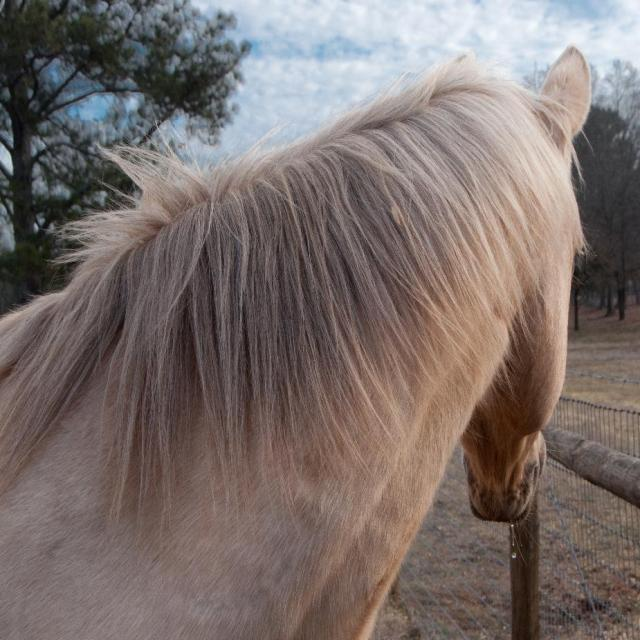Horse: (0, 41, 597, 639)
